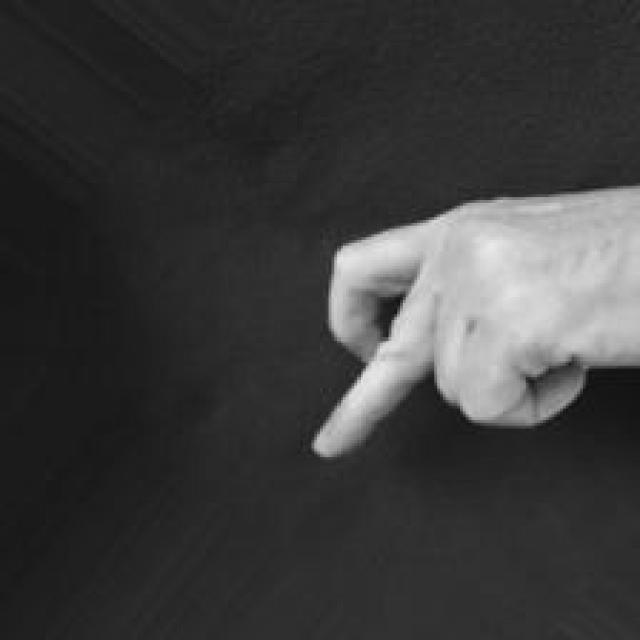P: (307, 185, 640, 480)
